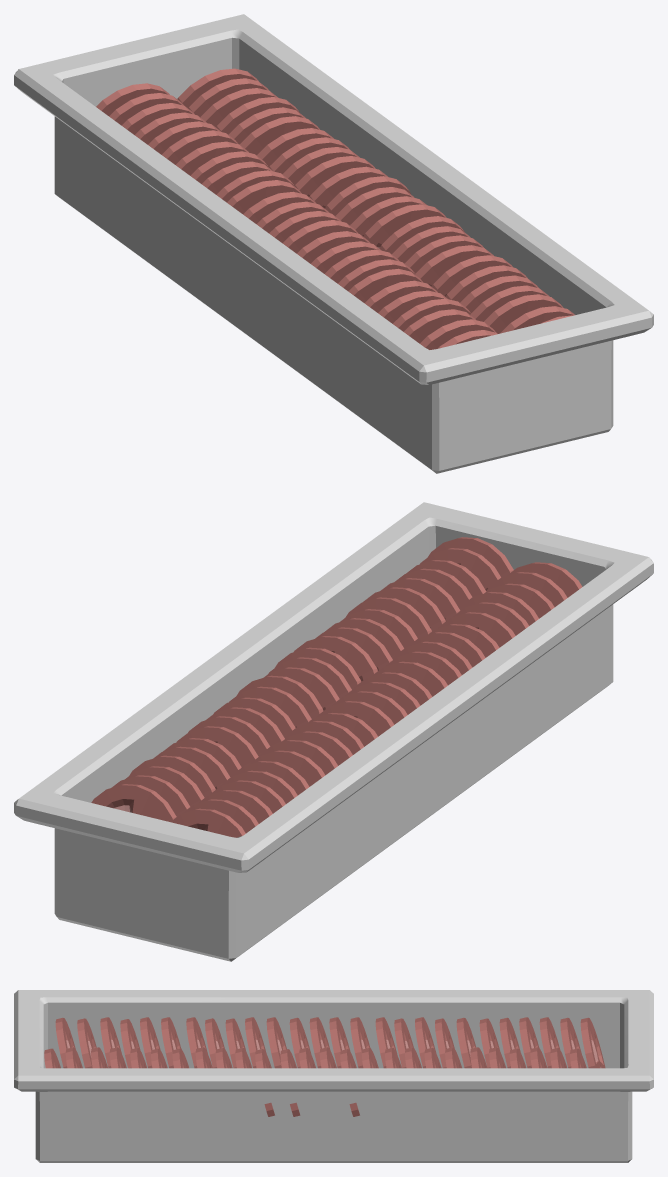
File: hotelPanTomato.fbx
3 views of the same model, one above another, from view 1: azimuth 30°, elevation 25°; view 2: azimuth 150°, elevation 25°; view 3: azimuth 270°, elevation 25° (orthographic). The views are drawn at different scales.
Visible parts, largest first — view 1: hotelPanTomato; view 2: hotelPanTomato; view 3: hotelPanTomato.
Part boxes in pixels (bbox=[...]): hotelPanTomato: bbox=[14, 14, 653, 473]; hotelPanTomato: bbox=[14, 502, 653, 961]; hotelPanTomato: bbox=[14, 990, 653, 1162].
Bounding box in the file's own units: 16.5 × 8.4 × 50.
